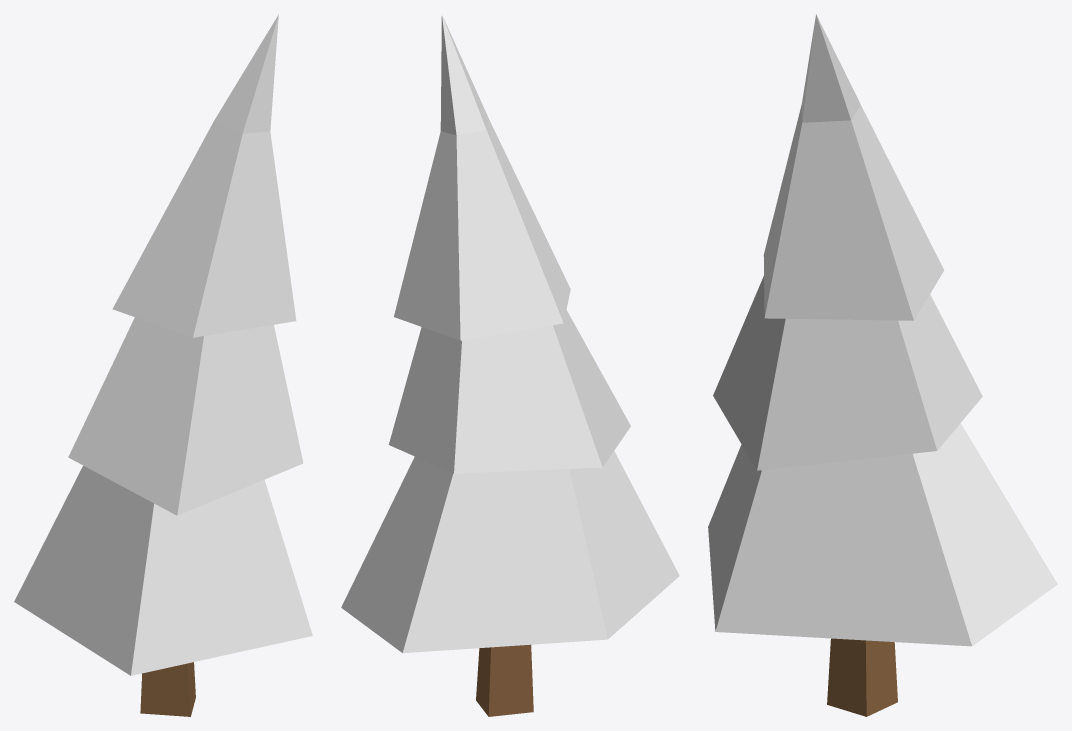
The model's file is Fir_Tree_OneSided_s_Snow_03_LOD.fbx.
The picture shows the model from 3 angles, left to right: view 1: azimuth 30°, elevation 25°; view 2: azimuth 150°, elevation 25°; view 3: azimuth 270°, elevation 25°; orthographic projection. The views are drawn at different scales.
Visible parts, largest first — view 1: Fir_Tree_OneSided_s_Snow_03_LOD0; view 2: Fir_Tree_OneSided_s_Snow_03_LOD0; view 3: Fir_Tree_OneSided_s_Snow_03_LOD0.
Boxes of the visible parts, bbox=[...] form: Fir_Tree_OneSided_s_Snow_03_LOD0: bbox=[14, 14, 312, 716]; Fir_Tree_OneSided_s_Snow_03_LOD0: bbox=[341, 15, 679, 716]; Fir_Tree_OneSided_s_Snow_03_LOD0: bbox=[708, 14, 1057, 716].
Size of what is drawn, in the model's own units: 95.85 by 250 by 108.
